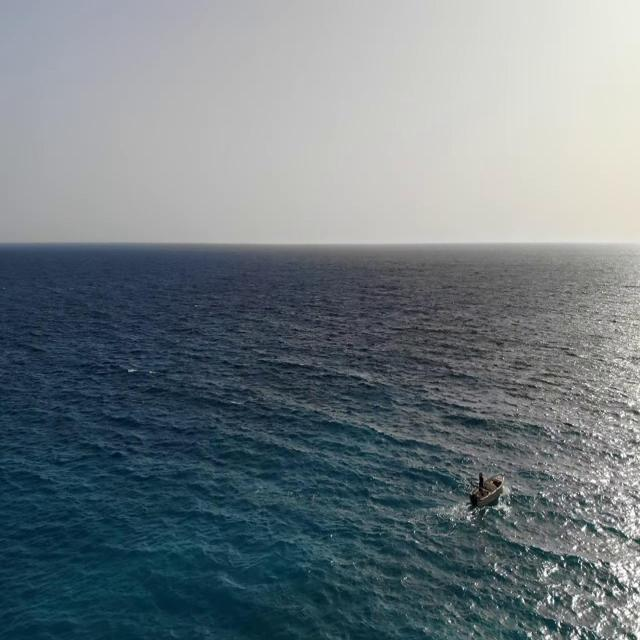boat: (468, 468, 508, 506)
